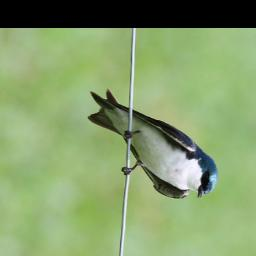Swallow: (84, 87, 222, 202)
